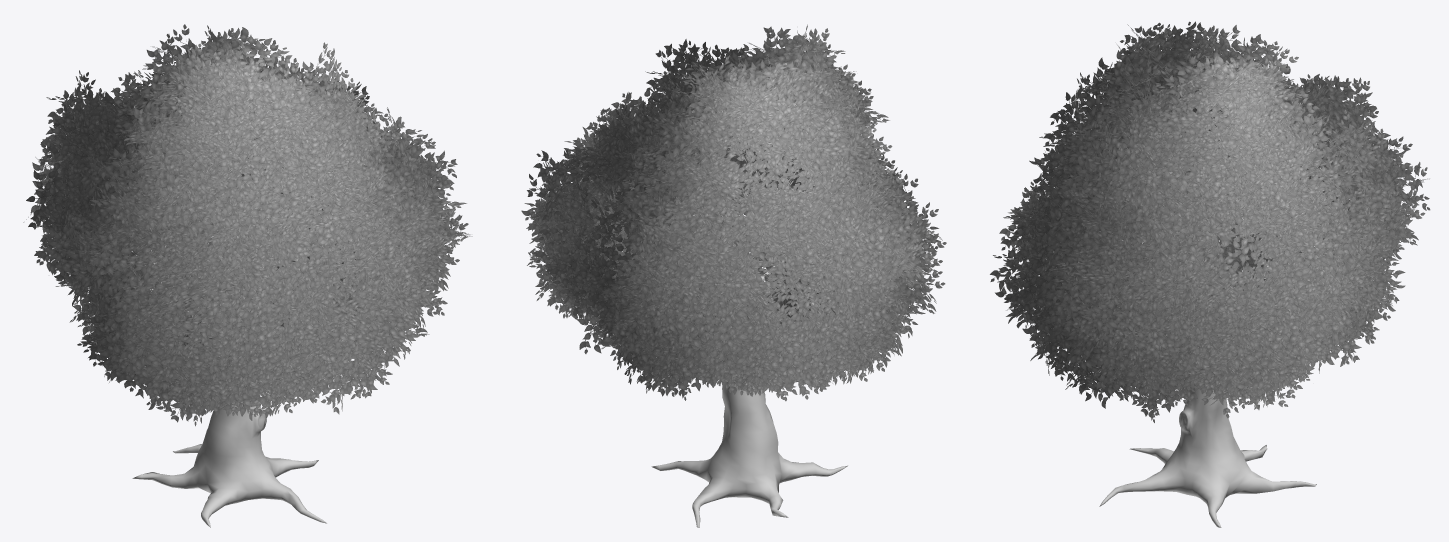
Rendered from SM_TreeLarge_02_Unity.fbx.
The picture shows the model from 3 angles, left to right: view 1: azimuth 30°, elevation 25°; view 2: azimuth 150°, elevation 25°; view 3: azimuth 270°, elevation 25°; orthographic projection. The views are drawn at different scales.
Parts seen in each view (by area): view 1: Tree_Large_02_LOD0; view 2: Tree_Large_02_LOD0; view 3: Tree_Large_02_LOD0.
Part boxes in pixels (box(x1,y1,x2,y2)): Tree_Large_02_LOD0: box(23, 24, 472, 527); Tree_Large_02_LOD0: box(521, 24, 946, 527); Tree_Large_02_LOD0: box(990, 21, 1430, 527).
Size of what is drawn, in the model's own units: 117 by 127 by 114.
